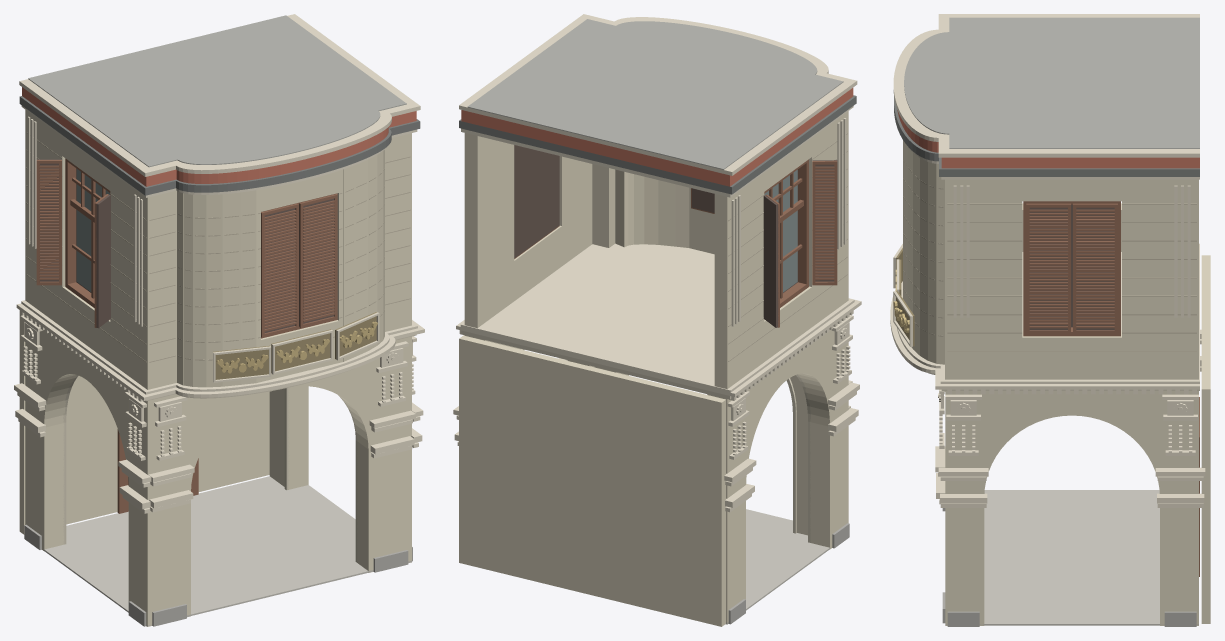
File: jingan-shi-liangcai-residence-carriage-porch-web.glb
The picture shows the model from 3 angles, left to right: view 1: azimuth 30°, elevation 25°; view 2: azimuth 150°, elevation 25°; view 3: azimuth 270°, elevation 25°; orthographic projection. The views are drawn at different scales.
Visible parts, largest first — view 1: 史量才旧居（铜仁路257号）院内主楼圆首券拱车廊; view 2: 史量才旧居（铜仁路257号）院内主楼圆首券拱车廊; view 3: 史量才旧居（铜仁路257号）院内主楼圆首券拱车廊.
Boxes of the visible parts, x1,y1,x2,y2 form: 史量才旧居（铜仁路257号）院内主楼圆首券拱车廊: [14, 14, 424, 626]; 史量才旧居（铜仁路257号）院内主楼圆首券拱车廊: [453, 14, 861, 626]; 史量才旧居（铜仁路257号）院内主楼圆首券拱车廊: [890, 14, 1210, 626].
Bounding box in the file's own units: 5.37 × 8.01 × 4.89.
